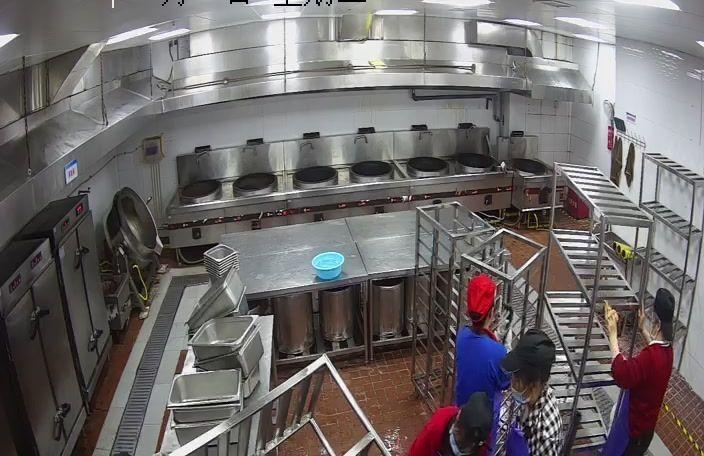no_apron: (601, 310, 620, 340)
